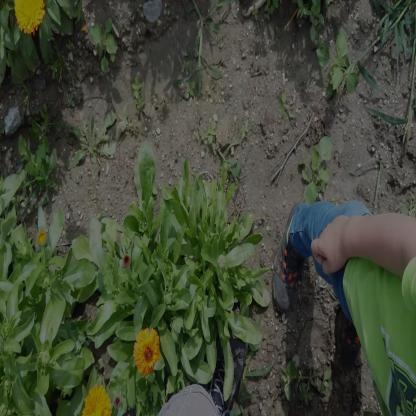marigold: (133, 327, 160, 374), (14, 0, 45, 34), (83, 384, 111, 416)
